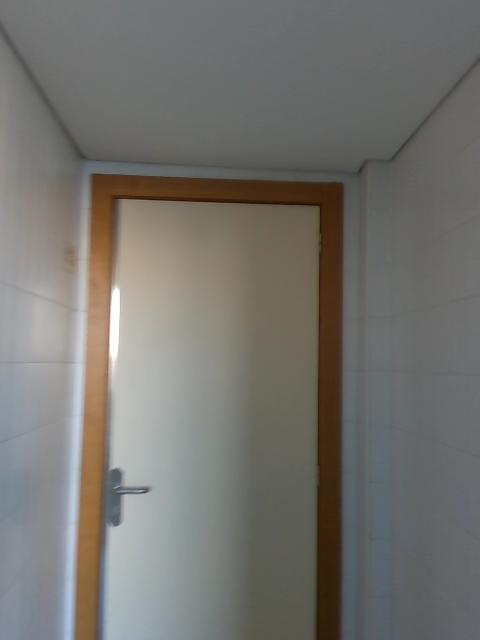door: (101, 201, 321, 640)
